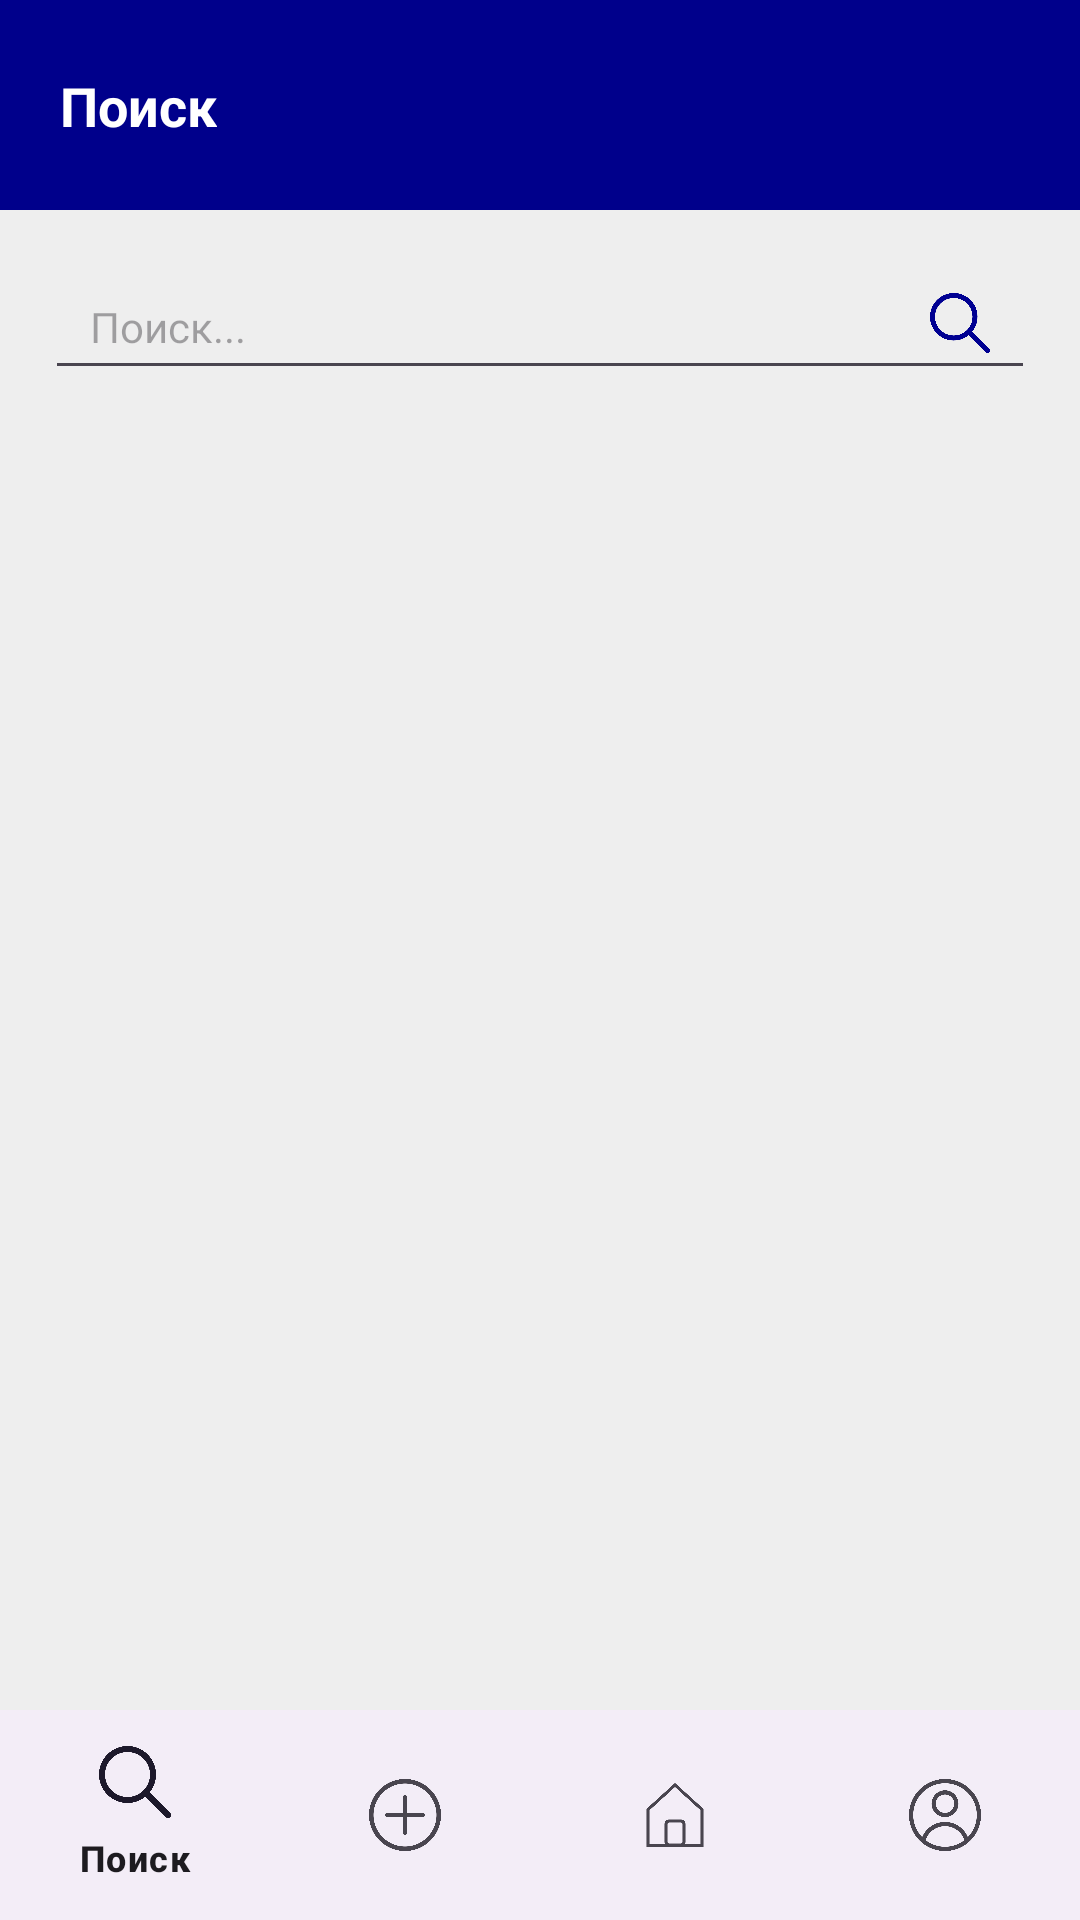

Locate icon controls on the screen. Image size 1080w x 1920h, boxes as (x1, y1, x2, y2).
loupe: (930, 293, 990, 353)
